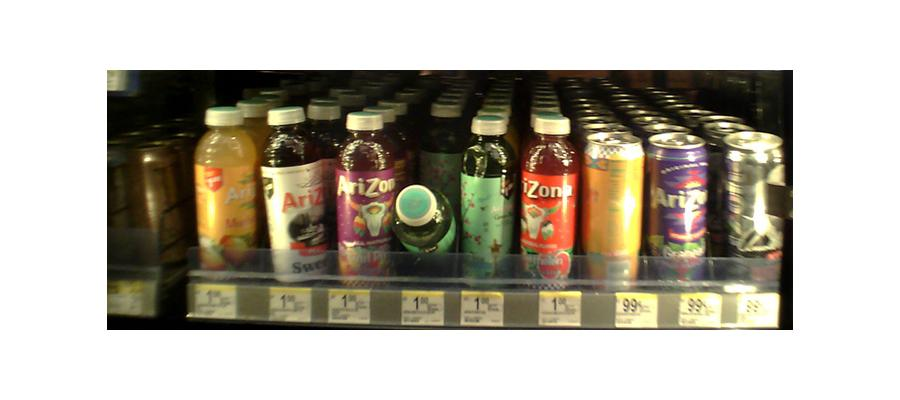bottle: (262, 103, 328, 285), (197, 103, 258, 277), (519, 110, 577, 285), (584, 121, 642, 287), (649, 128, 710, 284), (336, 111, 392, 280), (723, 130, 782, 287), (460, 111, 513, 283), (393, 179, 456, 276)
